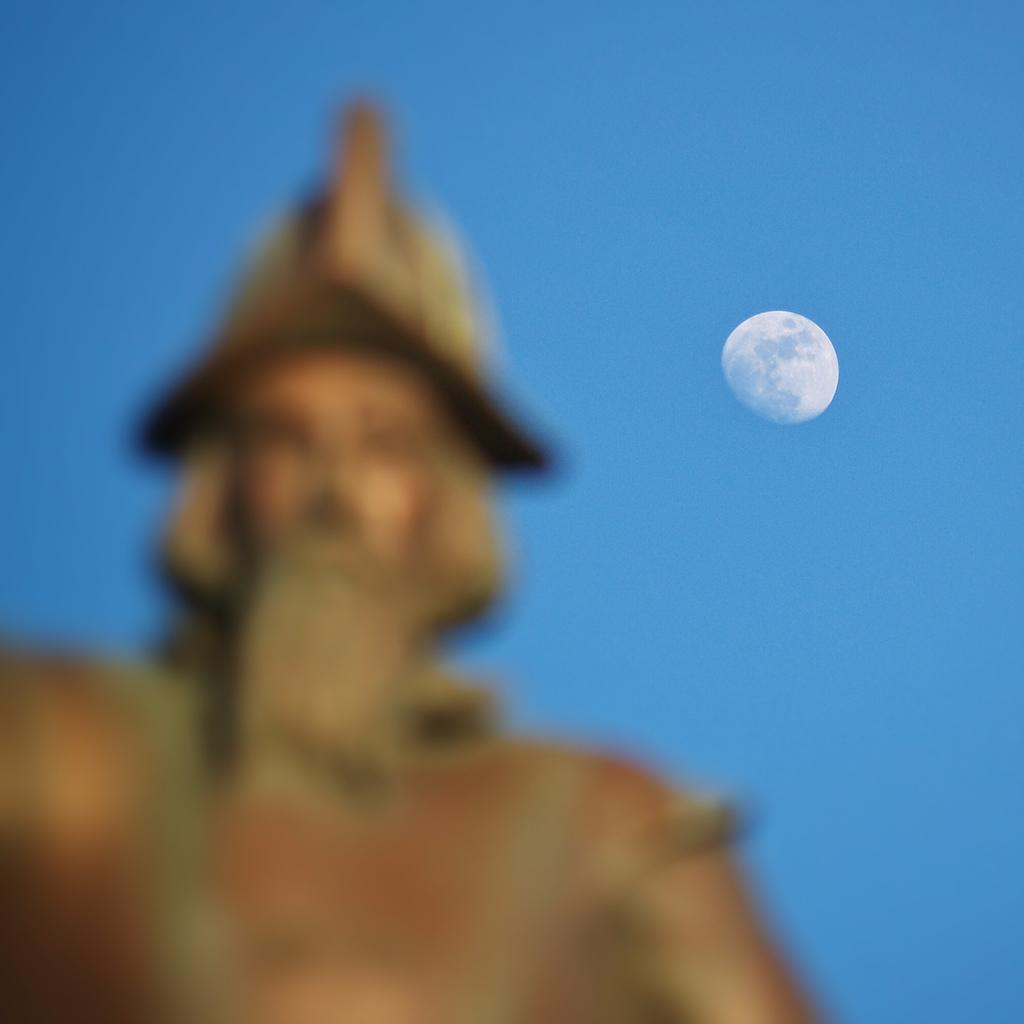Hat: (130, 98, 568, 488)
